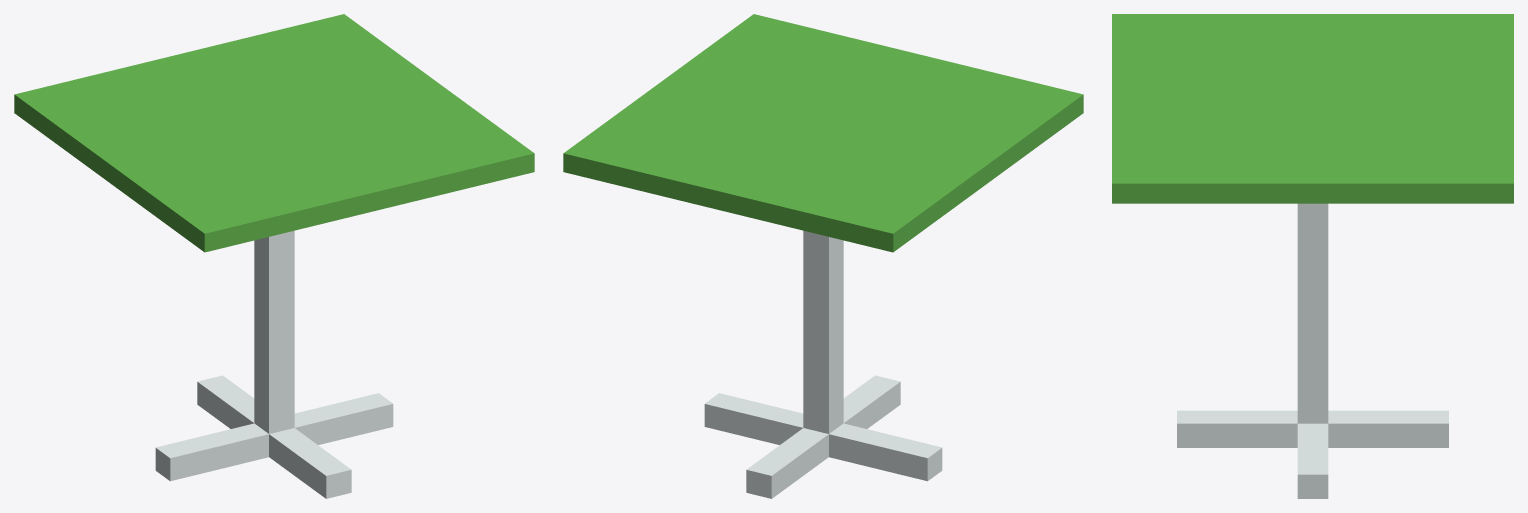
File: Table_COFFEROOM.fbx
The picture shows the model from 3 angles, left to right: view 1: azimuth 30°, elevation 25°; view 2: azimuth 150°, elevation 25°; view 3: azimuth 270°, elevation 25°; orthographic projection. The views are drawn at different scales.
Visible parts, largest first — view 1: Table.004; view 2: Table.004; view 3: Table.004.
Part boxes in pixels (box(x1,y1,x2,y2)): Table.004: box(14, 14, 534, 498); Table.004: box(563, 14, 1083, 498); Table.004: box(1112, 14, 1513, 498).
Bounding box in the file's own units: 0.9022 × 0.8492 × 0.9022.
